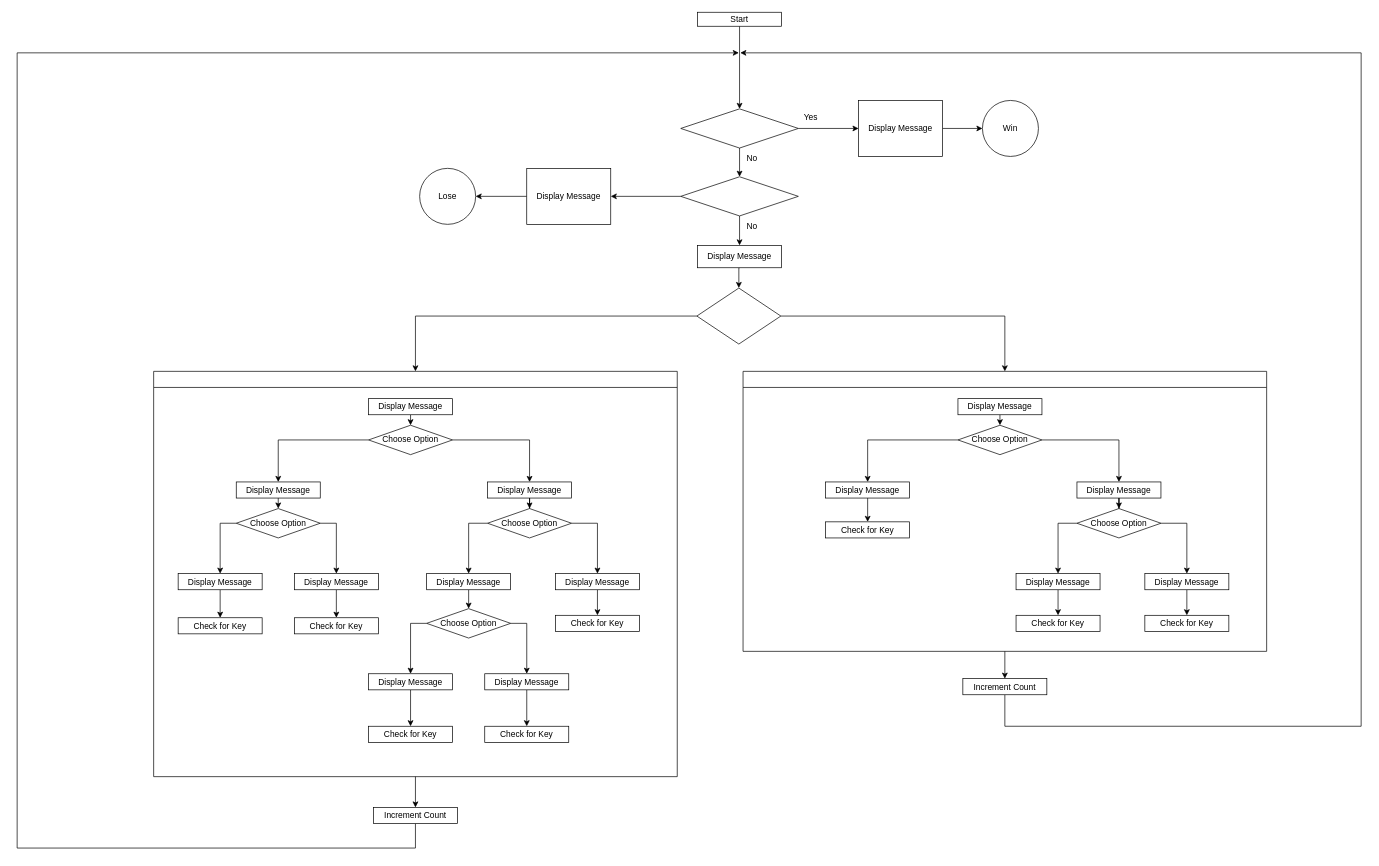
This 1379x866 diagram has some shape labels left out. The shapes that lost their labels are listed below. From the top down, each one's box as (x1, y1, x2, y2) in pixels, then its label:
(680, 108, 798, 148): Check if Key is Found
(680, 176, 798, 216): Check if Count = 4
(696, 287, 781, 344): Choose Module
(742, 371, 1267, 651): Bed
(153, 371, 677, 777): Dresser
